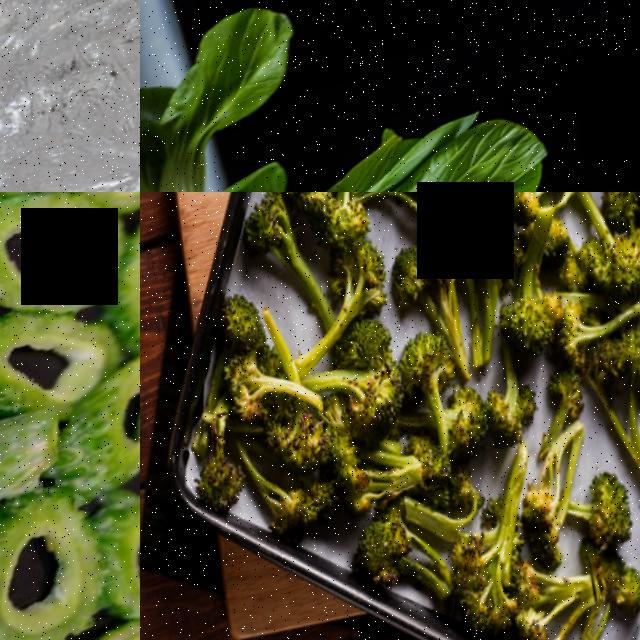bok choy: (140, 4, 349, 192)
broccoli: (175, 310, 330, 559), (387, 202, 518, 390), (421, 477, 546, 640), (488, 246, 585, 405), (570, 192, 640, 334), (514, 571, 612, 640), (562, 484, 634, 563), (352, 192, 450, 225)
